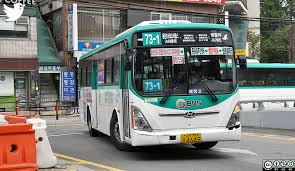bnum: (143, 33, 161, 46)
